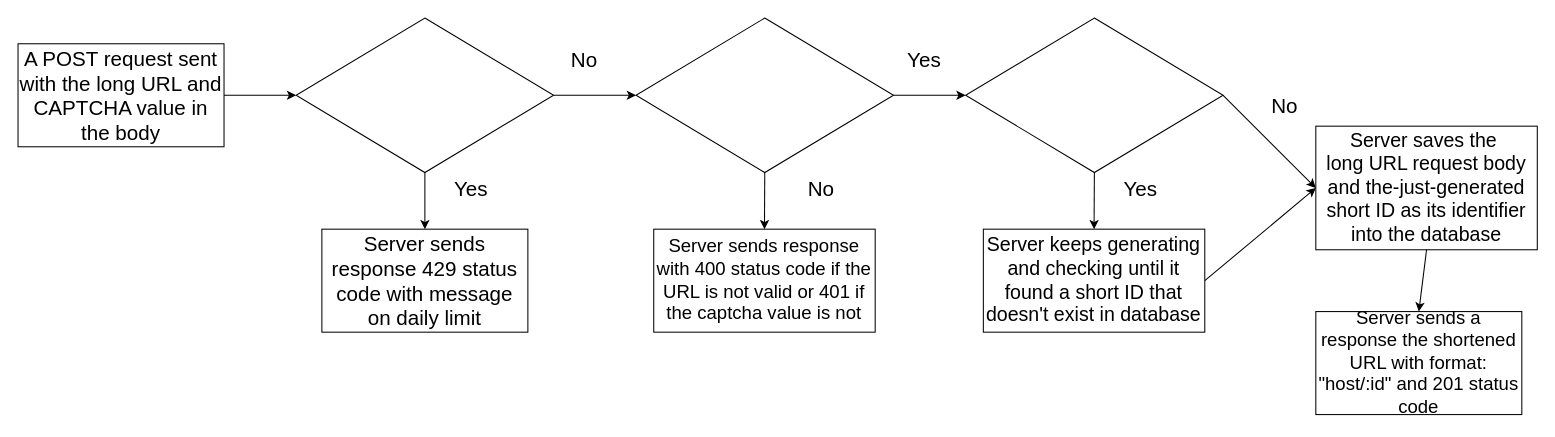
Some shapes in this 1555 by 437 pixel diagram are drawn without their labels. Each missing label, with the centre of its shape:
Server generates a short ID and checks if it's already exists in database: (1094,95)
Server validates if the URL or CAPTCHA value is valid: (764,95)
Server validates whether the request has exceeded limit: (424,95)
